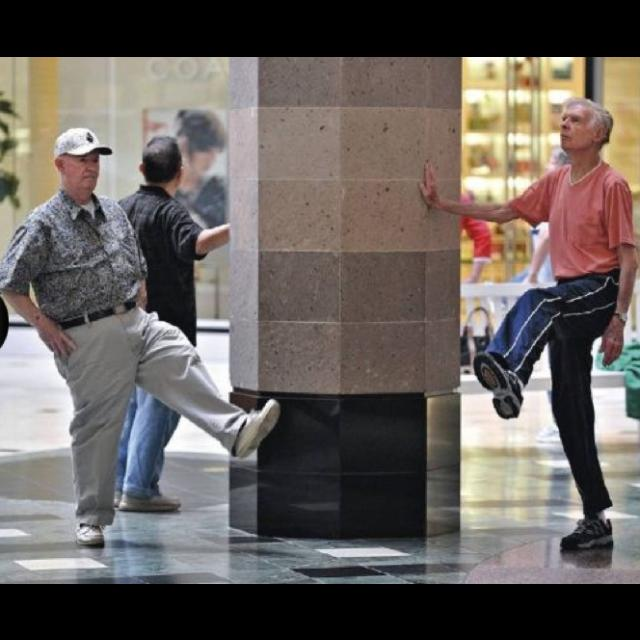head: (54, 126, 102, 192), (559, 98, 613, 152), (138, 138, 186, 192), (549, 150, 577, 178), (459, 188, 475, 210)
person: (2, 125, 282, 547), (420, 95, 632, 552), (89, 135, 275, 520), (528, 148, 592, 364), (444, 180, 494, 300)
